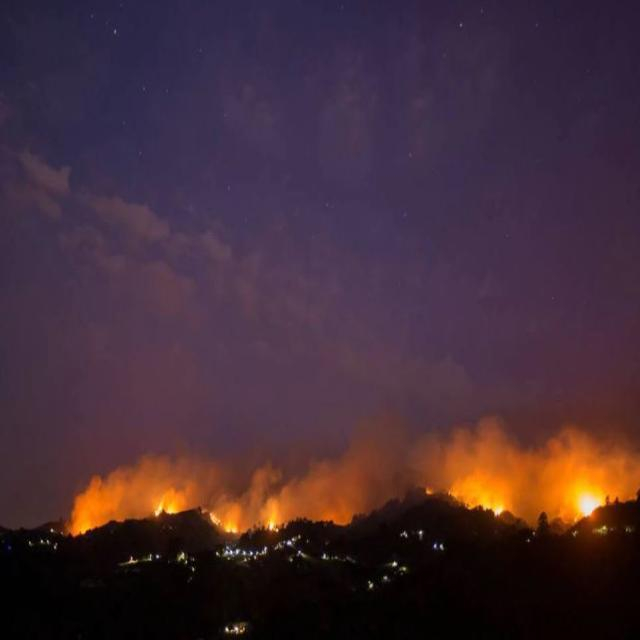Fire: (576, 491, 602, 518), (154, 492, 179, 518), (77, 518, 93, 538), (223, 518, 239, 534), (493, 502, 505, 518), (210, 510, 221, 525), (267, 514, 276, 532), (426, 487, 432, 498)
Smoke: (405, 422, 640, 490), (284, 416, 404, 524), (180, 464, 284, 512), (92, 458, 154, 524), (508, 492, 570, 514), (153, 458, 180, 492), (76, 488, 92, 518)
